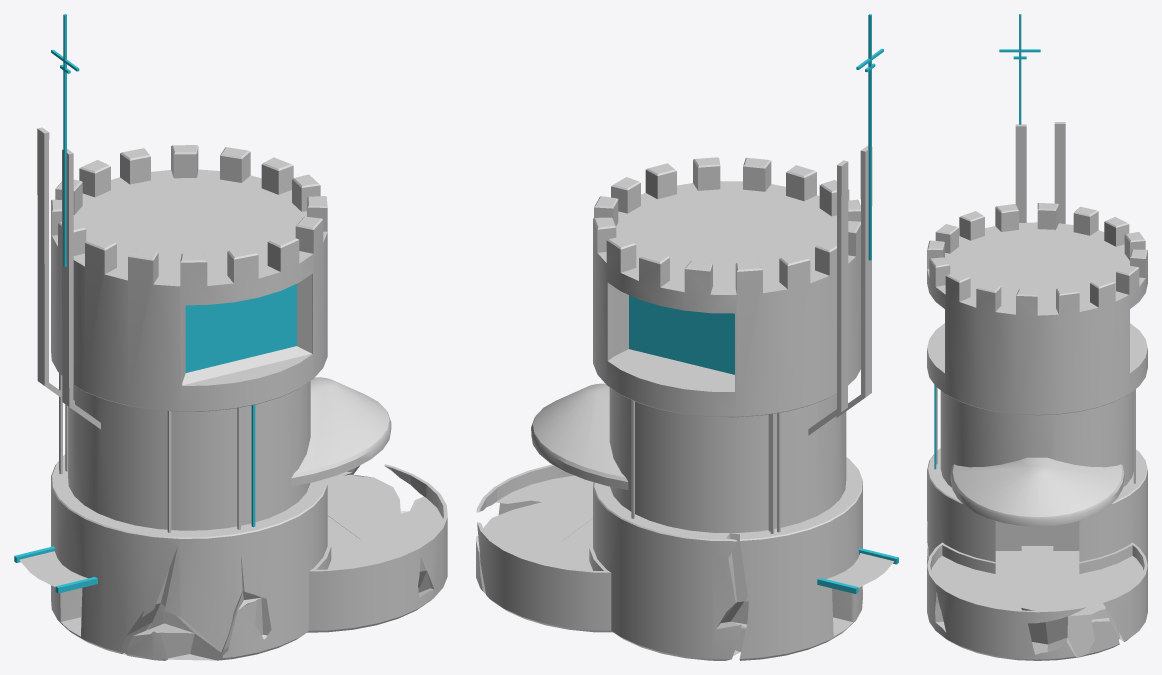
Rendered from OutpostA.fbx.
3 renders of one model, left to right at view 1: azimuth 30°, elevation 25°; view 2: azimuth 150°, elevation 25°; view 3: azimuth 270°, elevation 25°, orthographic. The views are drawn at different scales.
Parts seen in each view (by area): view 1: OutpostA; view 2: OutpostA; view 3: OutpostA.
Part boxes in pixels (x1,y1,x2,y2): OutpostA: (14, 14, 447, 660); OutpostA: (476, 14, 898, 660); OutpostA: (927, 14, 1147, 660).
Size of the model in its own units: 330 by 502 by 200.
